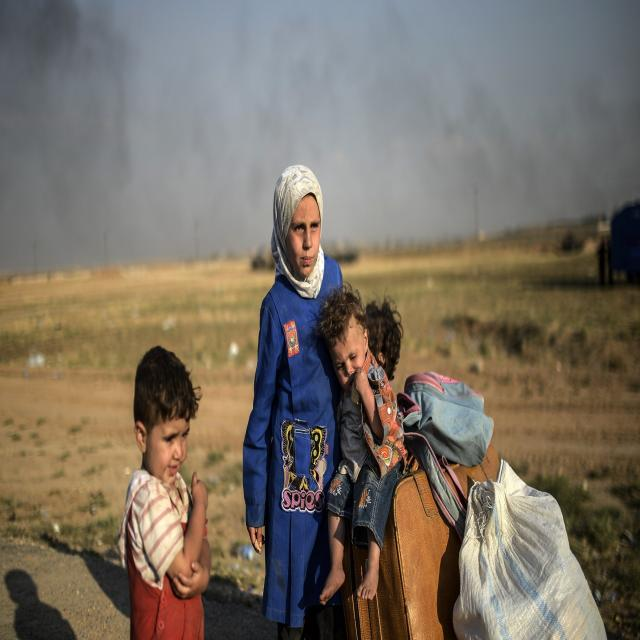human: (249, 156, 347, 636), (312, 281, 413, 604), (121, 343, 218, 640)
